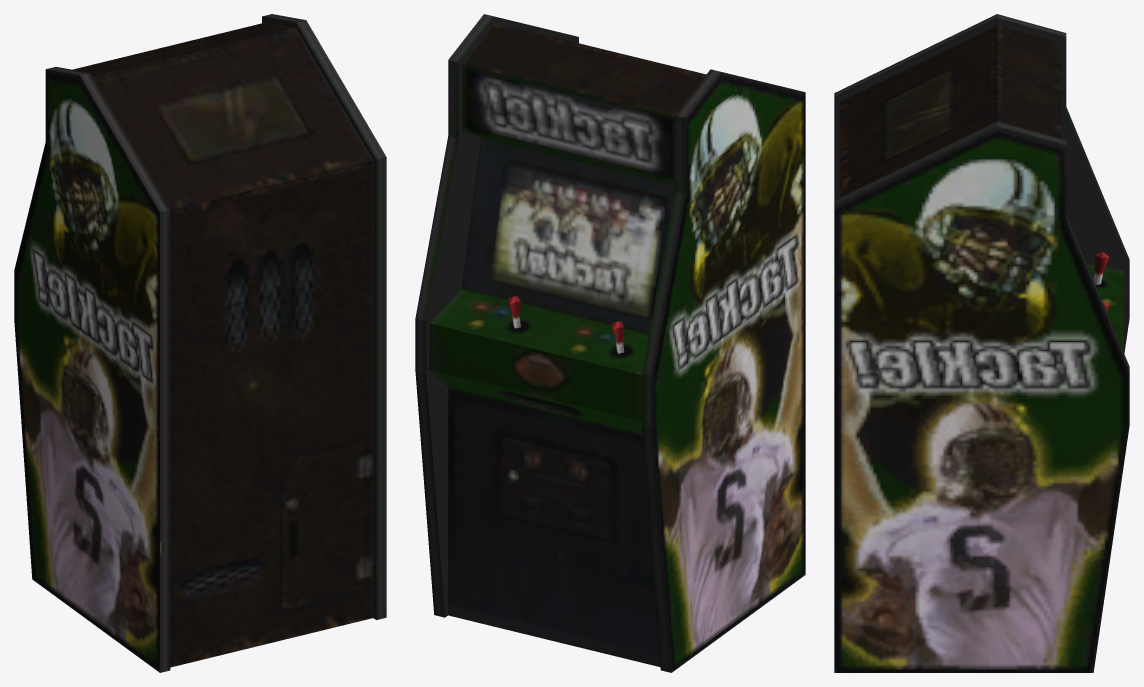
The model's file is arcade_machine3.fbx.
The picture shows the model from 3 angles, left to right: view 1: azimuth 30°, elevation 25°; view 2: azimuth 150°, elevation 25°; view 3: azimuth 270°, elevation 25°; orthographic projection. The views are drawn at different scales.
Parts seen in each view (by area): view 1: mesh_0; view 2: mesh_0; view 3: mesh_0.
Boxes of the visible parts, left/top/right/bottom form: mesh_0: left=14, top=14, right=386, bottom=672; mesh_0: left=415, top=14, right=805, bottom=672; mesh_0: left=834, top=14, right=1129, bottom=672.
Size of the model in its own units: 86.6 by 197 by 96.44.
1 material, 1 textured.
